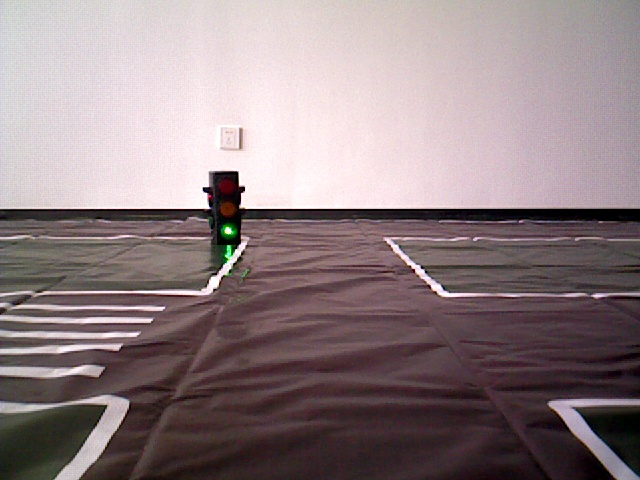green: (212, 177, 240, 242)
